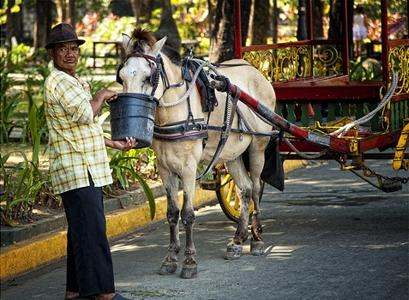person: (45, 24, 140, 300)
